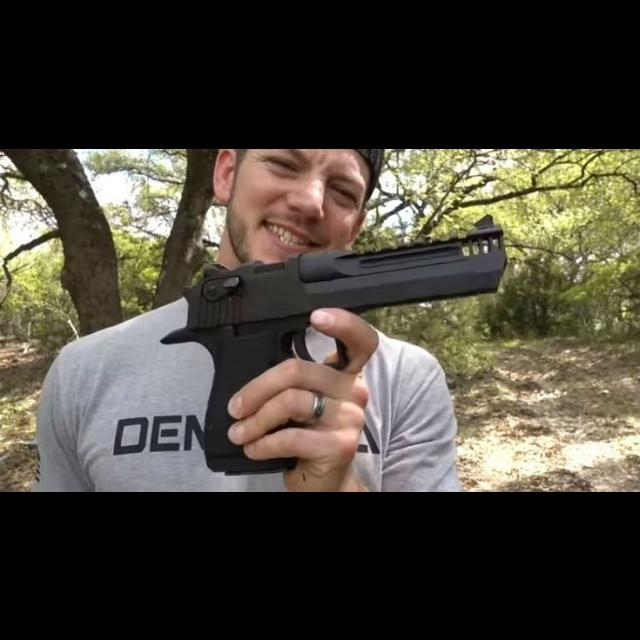handgun: (158, 212, 508, 476)
